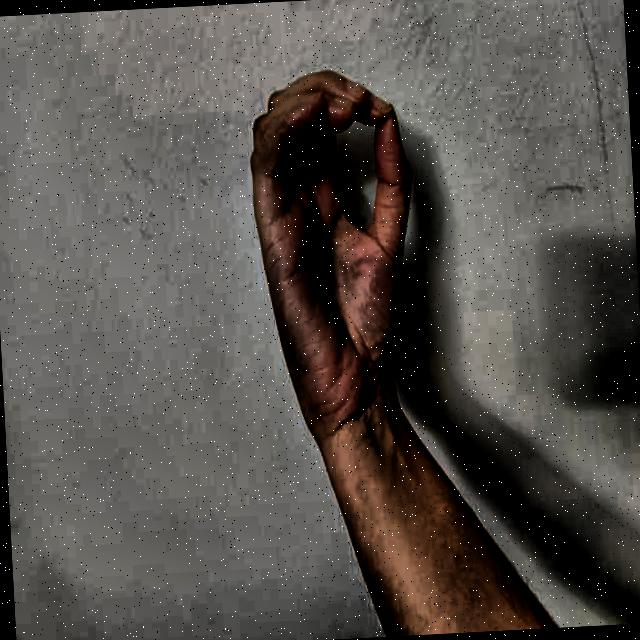O: (232, 43, 448, 474)
